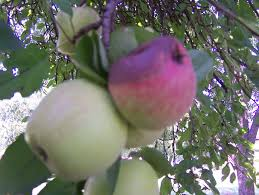apple: (32, 84, 133, 171)
damaged_apple: (107, 39, 200, 130)
